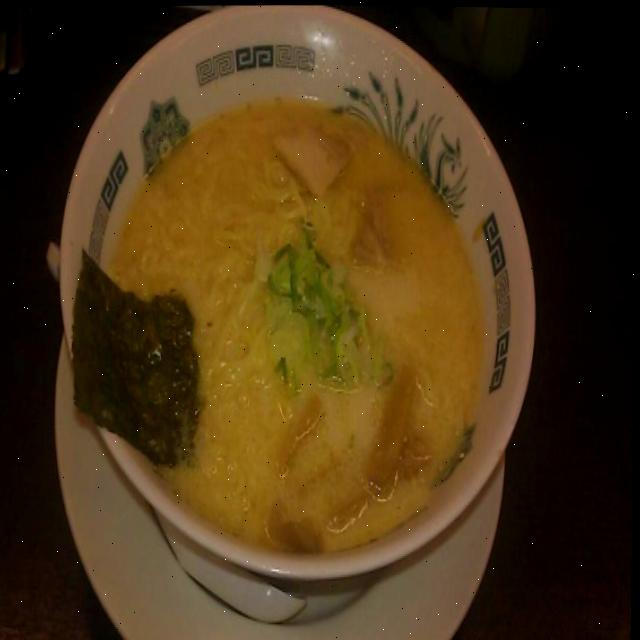面条主食: (50, 1, 554, 589)
